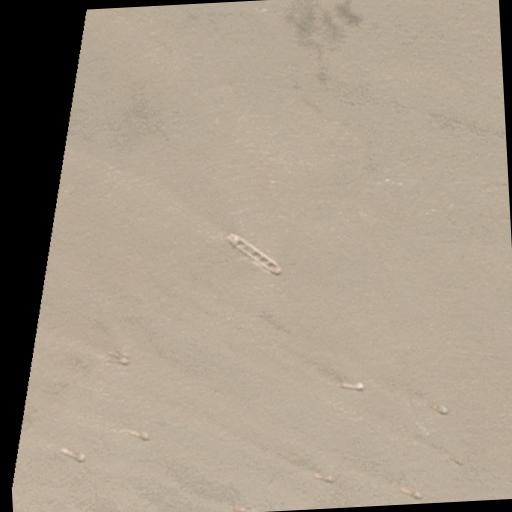ship: (228, 232, 284, 280), (59, 445, 86, 462), (126, 427, 152, 440), (398, 485, 422, 499), (428, 401, 450, 414), (314, 471, 336, 483), (339, 380, 364, 390)
